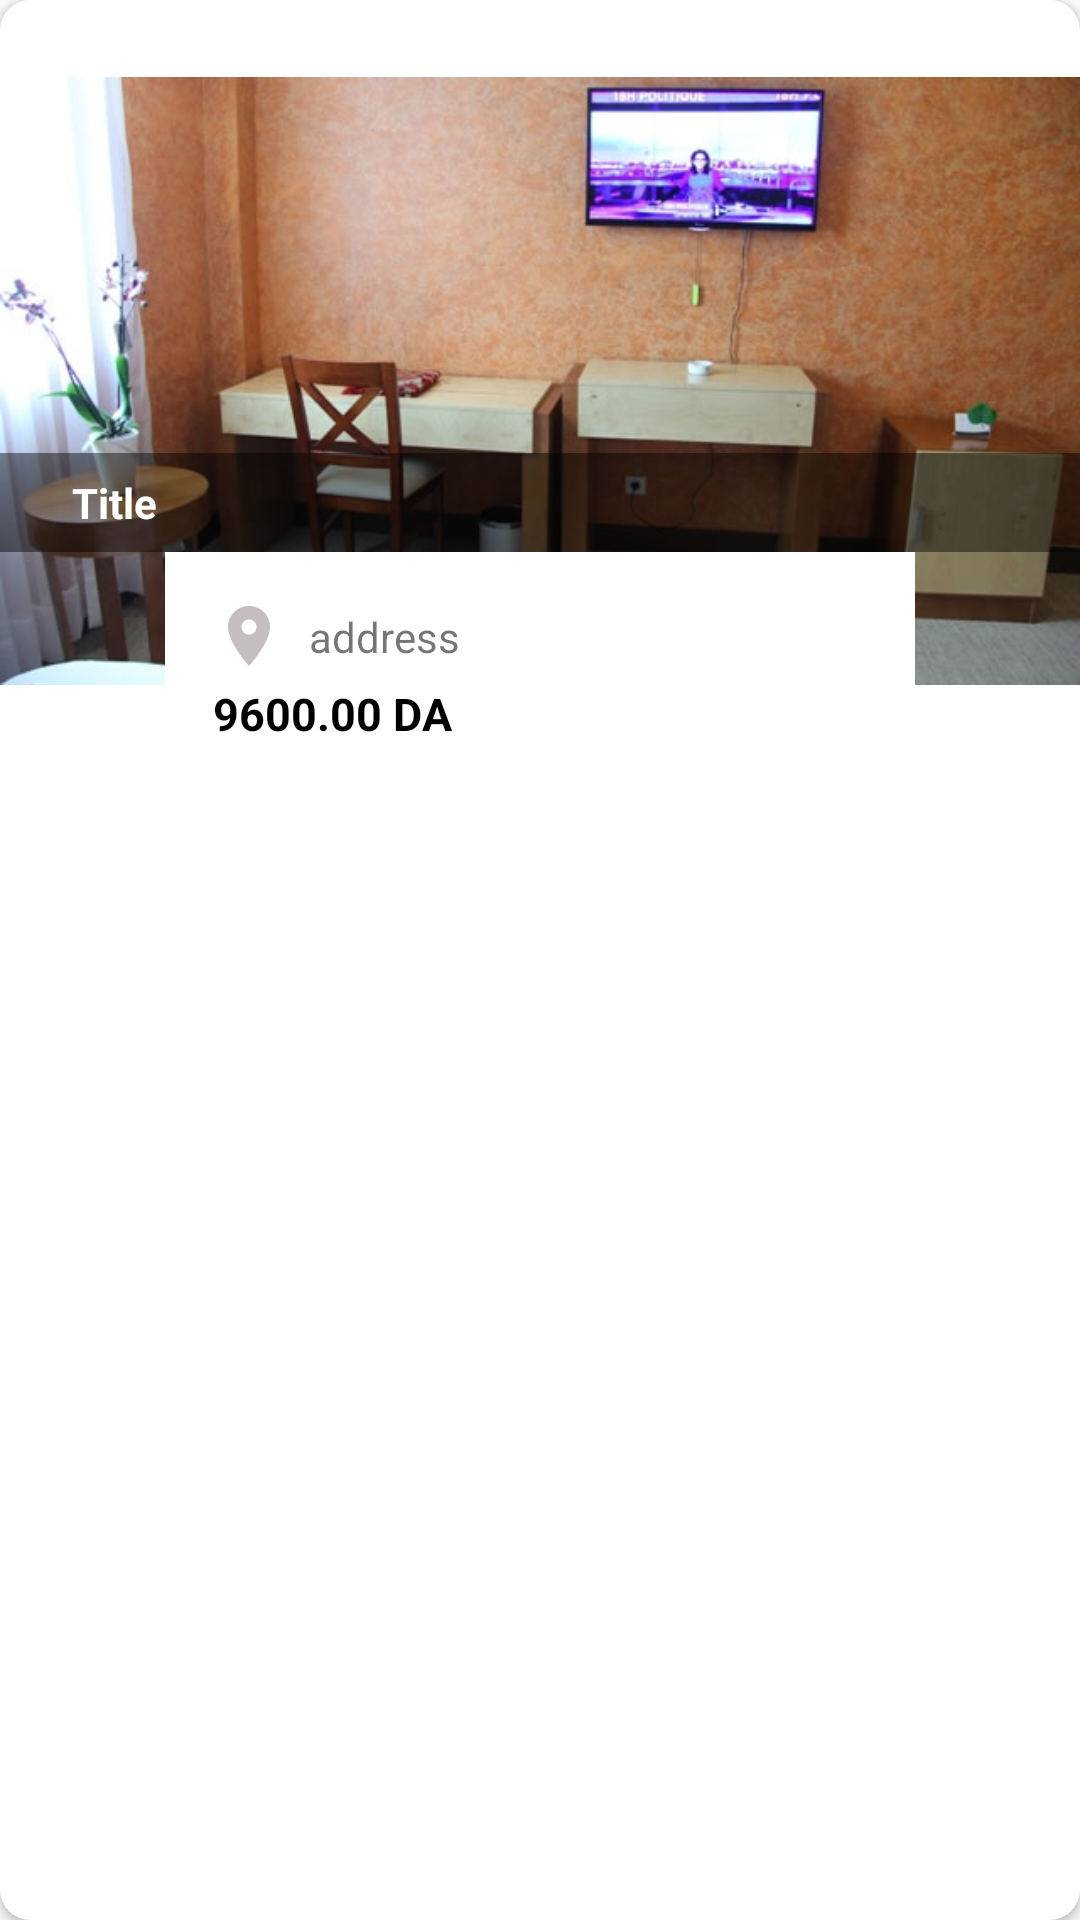

Icon click points for this 1080 x 1920 phone screenshot, format point (x, y):
location on: point (249, 635)
